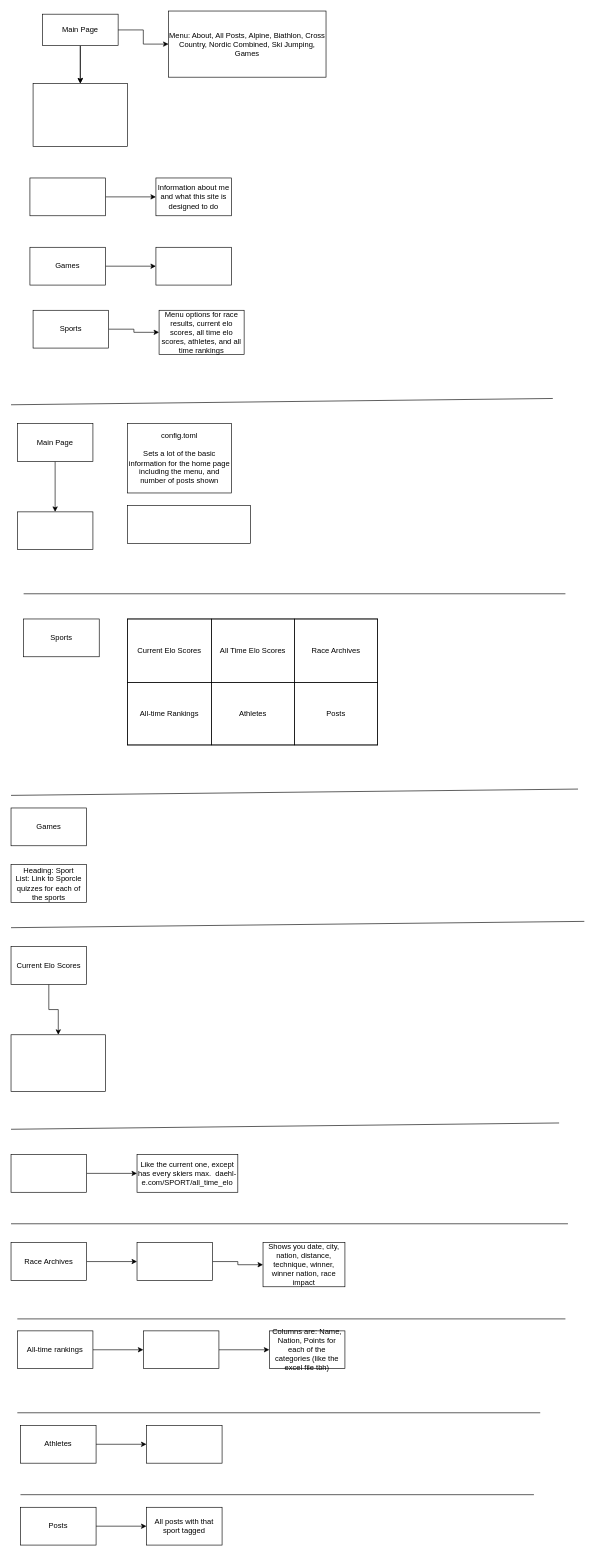
Image size: 596x1556. Some labels were removed from this diagram. The shapes that lost their labels are listed below. From the top down, each one's centre as x and y in pixels, then its label:
At pixel 80 114: "Previews of previous blog posts. Contains title, date and heading. Nothing more.".
At pixel 67 196: "About".
At pixel 193 266: "List labeled by sports with links to all my Sporcle quizzes from findings".
At pixel 55 530: "Code Files: Set-up of page that shows previews, headers".
At pixel 188 524: "content/post will have all of the posts that show up on the main page.".
At pixel 58 1062: "Keep as is. Rename to daehl-e.com/SPORT/current_elo".
At pixel 48 1173: "All-time Elo Scores".
At pixel 174 1261: "Drop down for year.".
At pixel 181 1349: "Literally same as elo scores except no graph".
At pixel 184 1444: "Search for an athlete, brings them to their page.".
